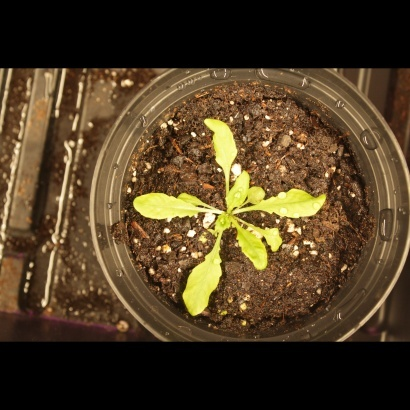leaf: (177, 244, 232, 323), (129, 191, 200, 230), (197, 117, 239, 178), (260, 188, 334, 222), (232, 224, 273, 272), (224, 168, 255, 208), (176, 186, 206, 215), (244, 184, 273, 207), (211, 213, 234, 236)
